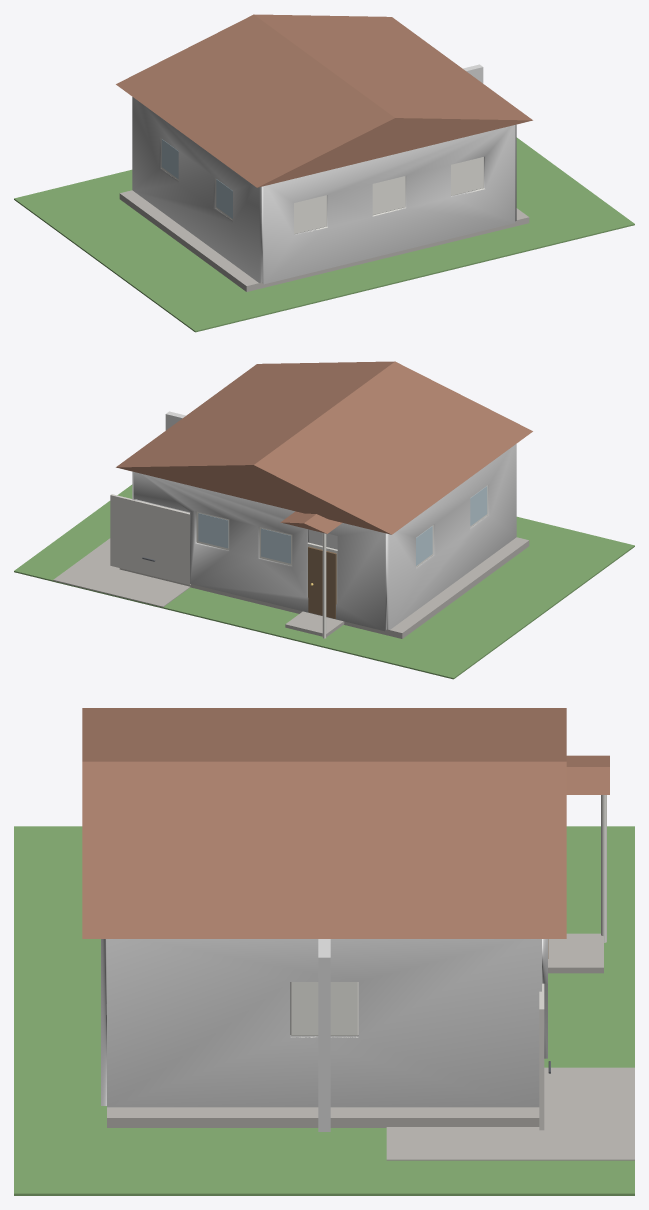
File: house_split_level.glb
3 renders of one model, top to bottom at view 1: azimuth 30°, elevation 25°; view 2: azimuth 150°, elevation 25°; view 3: azimuth 270°, elevation 25°, orthographic. The views are drawn at different scales.
Parts seen in each view (by area): view 1: roof, lawn, back_wall, left_wall, frame (×5), foundation, glass (×2); view 2: roof, lawn, front_wall, left_wall, panel (×2), driveway, frame (×4), foundation, glass (×4), porch_slab, porch_roof, interior_divider (+1 smaller); view 3: roof, lawn, right_wall, driveway, foundation, frame, interior_divider, porch_slab, porch_roof, back_wall, porch_post, panel.
Part boxes in pixels (x1,y1,x2,y2): roof: (116, 14, 532, 187); lawn: (14, 137, 634, 332); back_wall: (262, 125, 515, 284); left_wall: (132, 97, 262, 282); frame (×5): (161, 138, 483, 234); foundation: (119, 190, 529, 291); glass (×2): (161, 139, 232, 218); roof: (116, 361, 532, 534); lawn: (14, 484, 634, 679); front_wall: (133, 472, 386, 631); left_wall: (386, 444, 516, 629); panel (×2): (110, 494, 336, 618); driveway: (53, 538, 190, 607); frame (×4): (196, 485, 487, 567); foundation: (119, 537, 529, 638); glass (×4): (198, 486, 487, 565); porch_slab: (285, 611, 344, 637); porch_roof: (280, 511, 342, 533); interior_divider: (165, 411, 337, 549); roof: (82, 708, 566, 938); lawn: (14, 826, 634, 1195); right_wall: (107, 939, 541, 1107); driveway: (386, 1067, 634, 1160); foundation: (107, 1107, 539, 1127); frame: (290, 982, 358, 1035); interior_divider: (318, 939, 330, 1131); porch_slab: (548, 933, 603, 973); porch_roof: (566, 755, 609, 794); back_wall: (101, 939, 106, 1105); porch_post: (601, 795, 606, 942); panel: (539, 983, 544, 1130).
Size of the model in its own units: 14 by 4.45 by 10.
